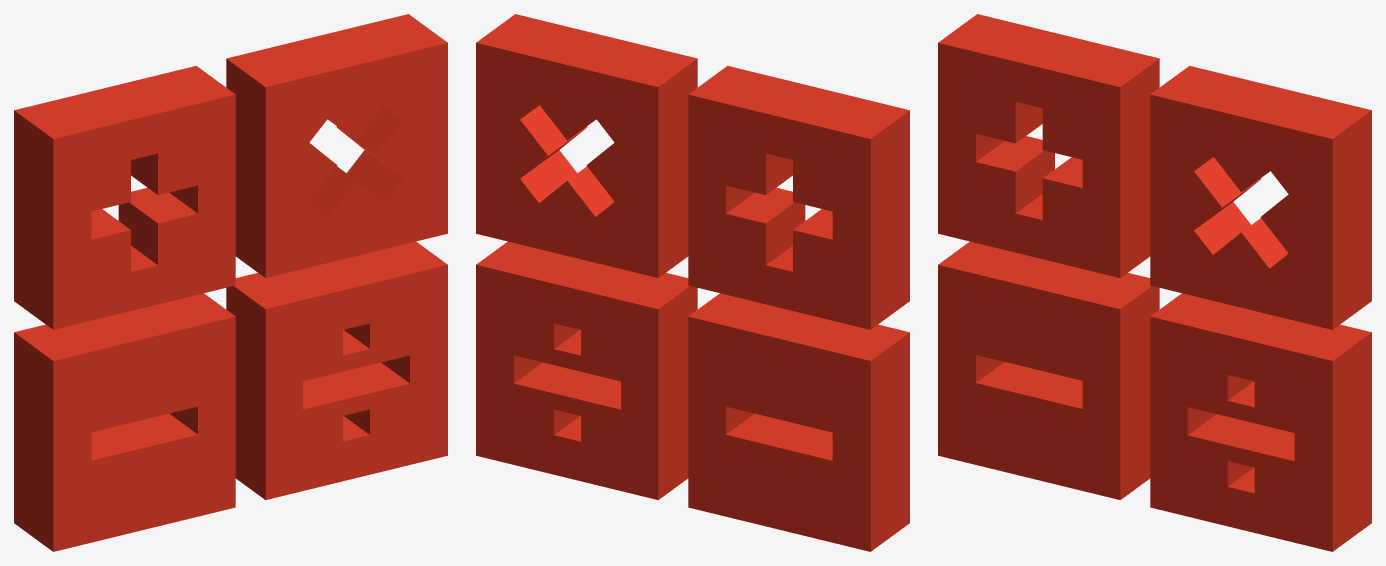
File: Icon_Calculator_02.fbx
The picture shows the model from 3 angles, left to right: view 1: azimuth 30°, elevation 25°; view 2: azimuth 150°, elevation 25°; view 3: azimuth 330°, elevation 25°; orthographic projection.
Visible parts, largest first — view 1: Icon_Calculator_02; view 2: Icon_Calculator_02; view 3: Icon_Calculator_02.
Part boxes in pixels (x1=…): Icon_Calculator_02: x1=14, y1=14, x2=447, y2=551; Icon_Calculator_02: x1=476, y1=14, x2=909, y2=551; Icon_Calculator_02: x1=938, y1=14, x2=1371, y2=551.
Size of the model in its own units: 69.88 by 69.88 by 12.06.
